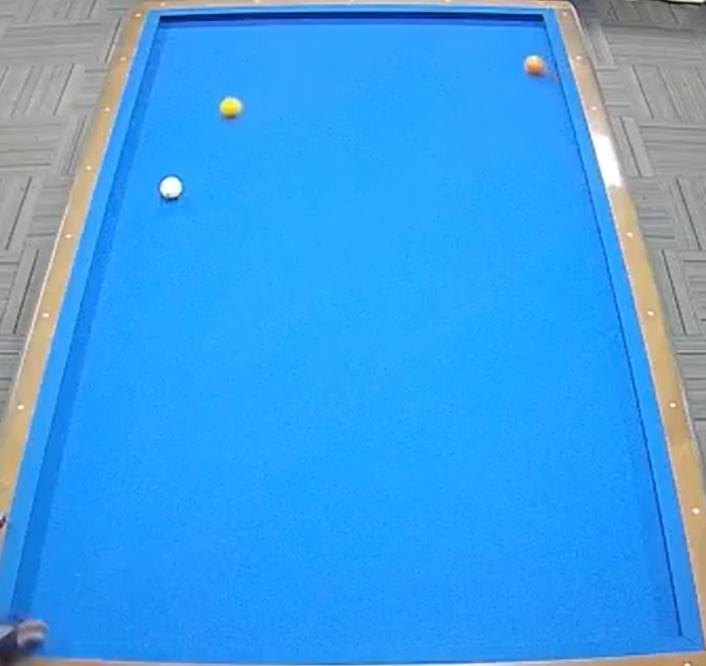orange ball: (519, 51, 547, 83)
white ball: (156, 172, 190, 205)
yellow ball: (217, 92, 250, 124)
